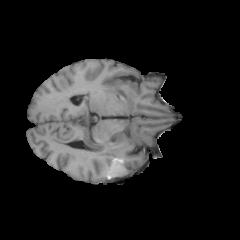glioma: (87, 134, 132, 181)
